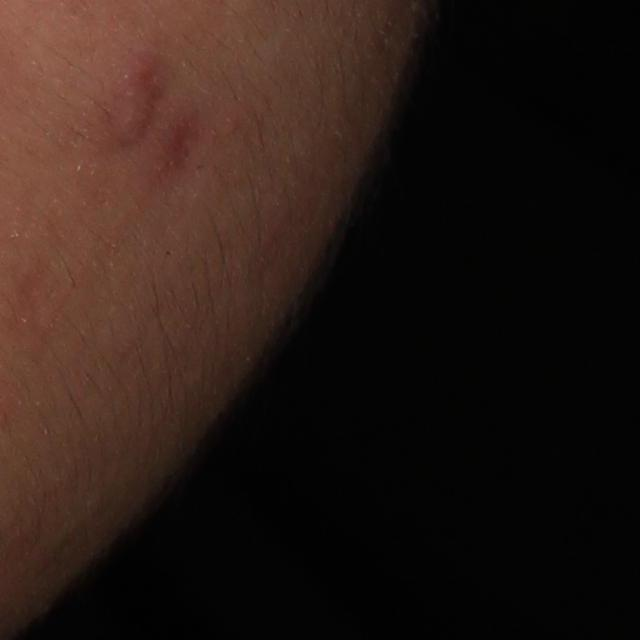papule: (103, 78, 163, 151)
